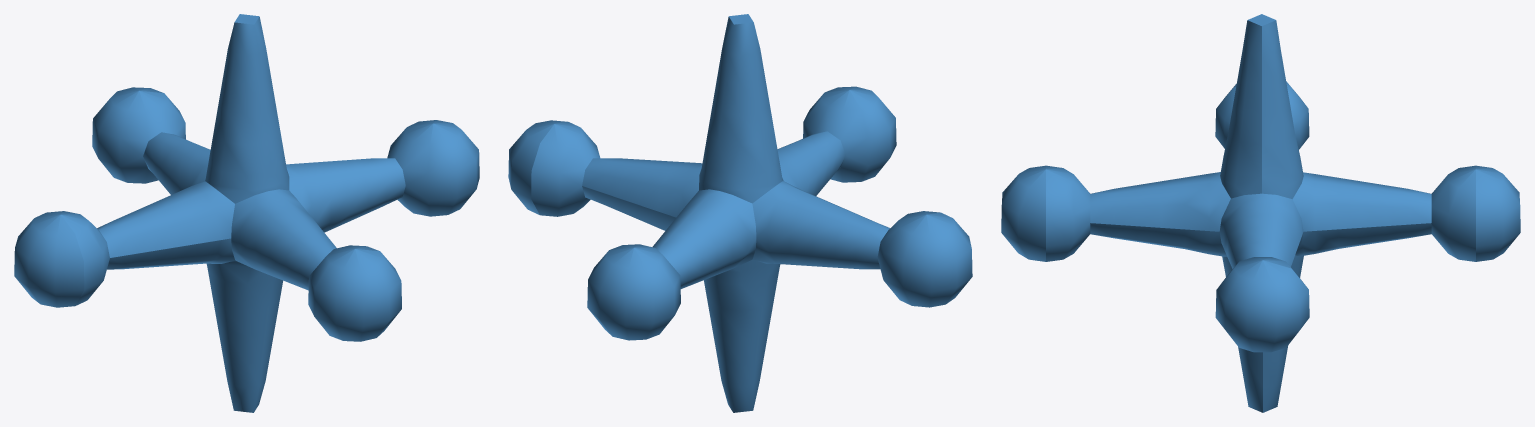
Rendered from jack.obj.
The picture shows the model from 3 angles, left to right: view 1: azimuth 30°, elevation 25°; view 2: azimuth 150°, elevation 25°; view 3: azimuth 270°, elevation 25°; orthographic projection.
Bounding box in the file's own units: 9.48 × 7.8 × 9.5.
